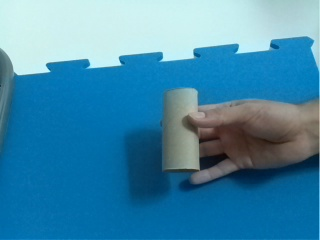rollo papel: (163, 89, 200, 173)
